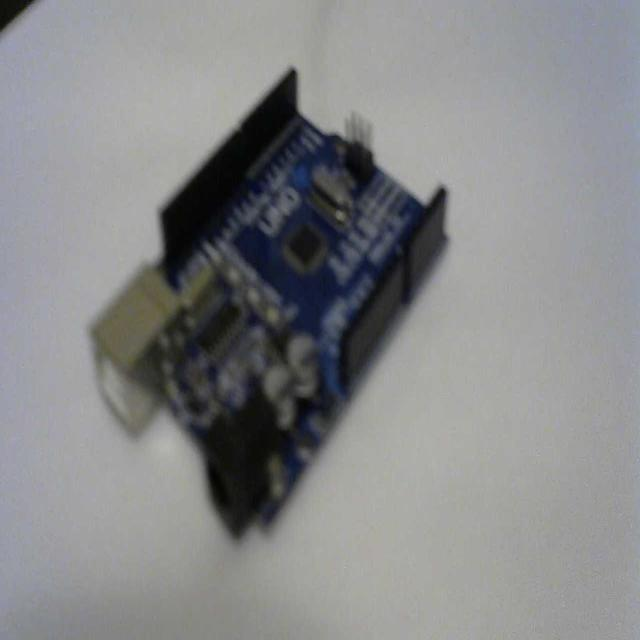arduino: (83, 60, 457, 549)
